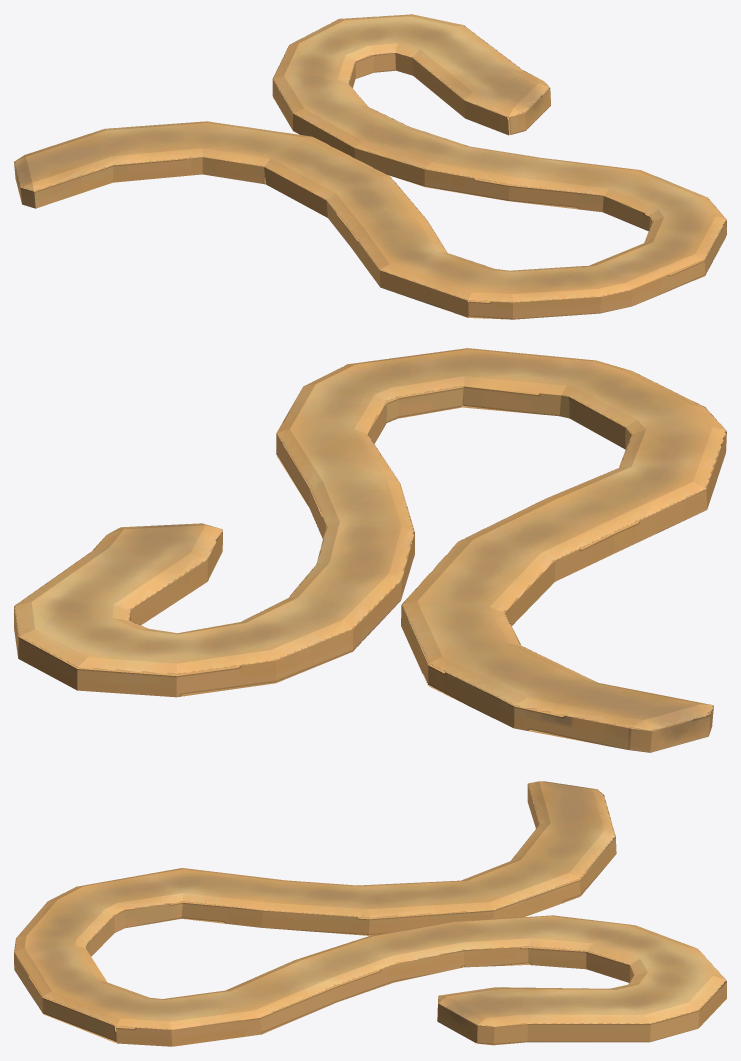
File: BottomPath.fbx
3 views of the same model, one above another, from view 1: azimuth 30°, elevation 25°; view 2: azimuth 150°, elevation 25°; view 3: azimuth 270°, elevation 25° (orthographic). The views are drawn at different scales.
Visible parts, largest first — view 1: Cube; view 2: Cube; view 3: Cube.
Part boxes in pixels (box(x1,y1,x2,y2)): Cube: box(14, 14, 726, 319); Cube: box(14, 348, 726, 752); Cube: box(14, 781, 726, 1046).
Size of the model in its own units: 2487 by 132 by 2996.
